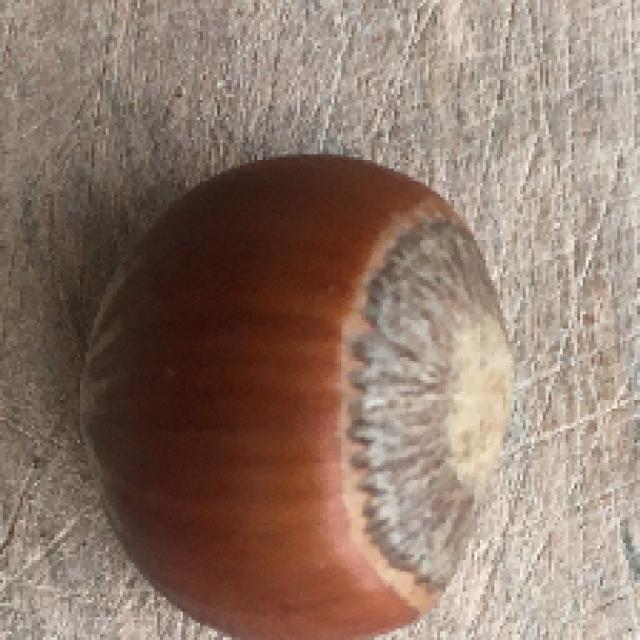damagedHazelnut: (82, 154, 524, 640)
